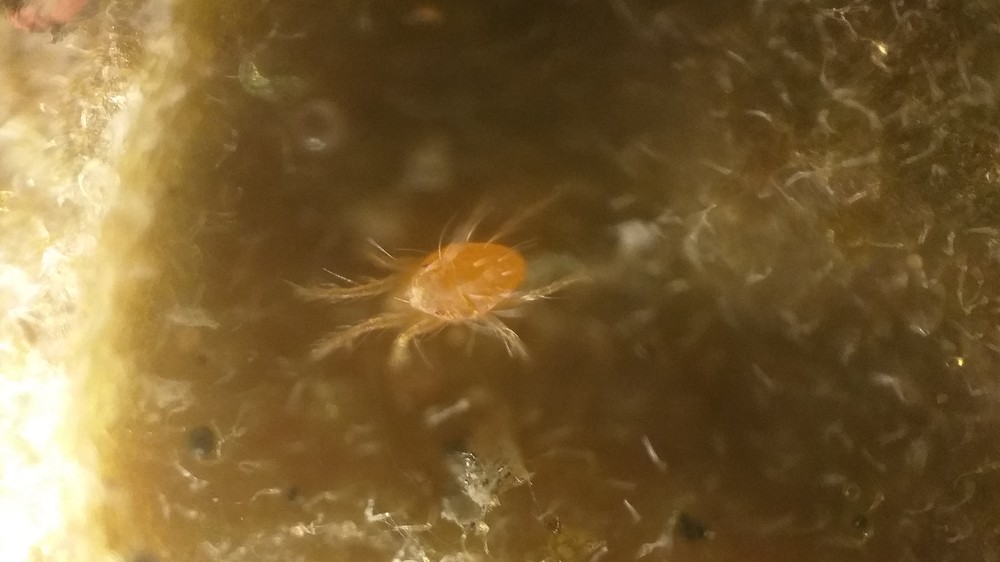Aracnido Rojo: (283, 170, 603, 405)
